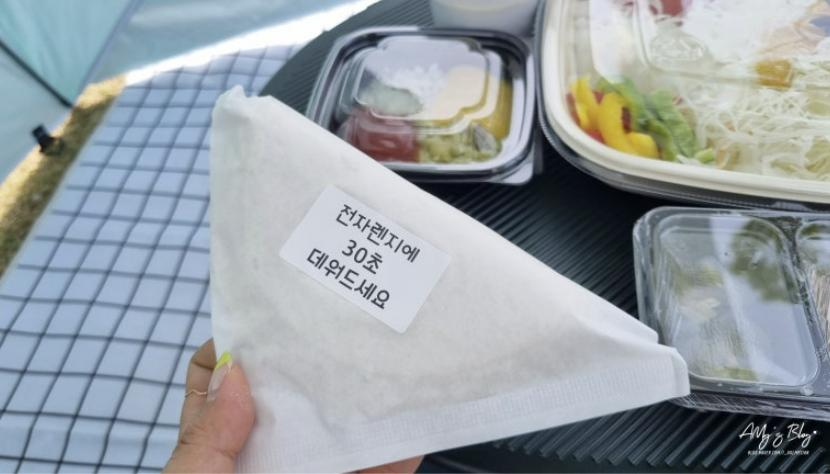Lunch Box: (535, 0, 829, 211), (633, 207, 829, 420), (305, 26, 540, 183)
